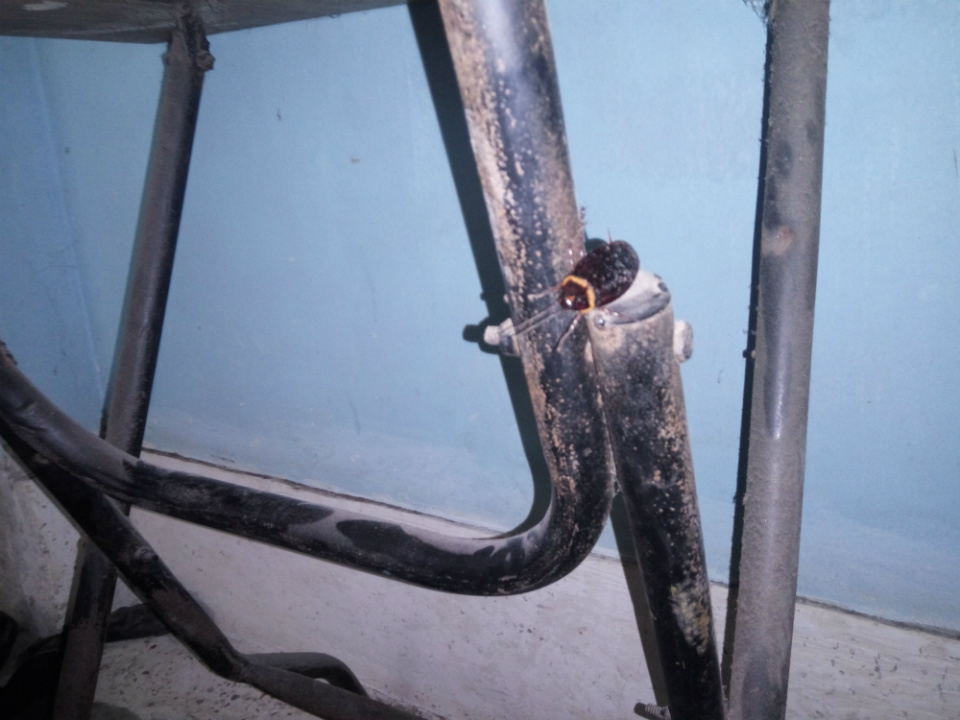cockroach: (393, 198, 692, 353)
